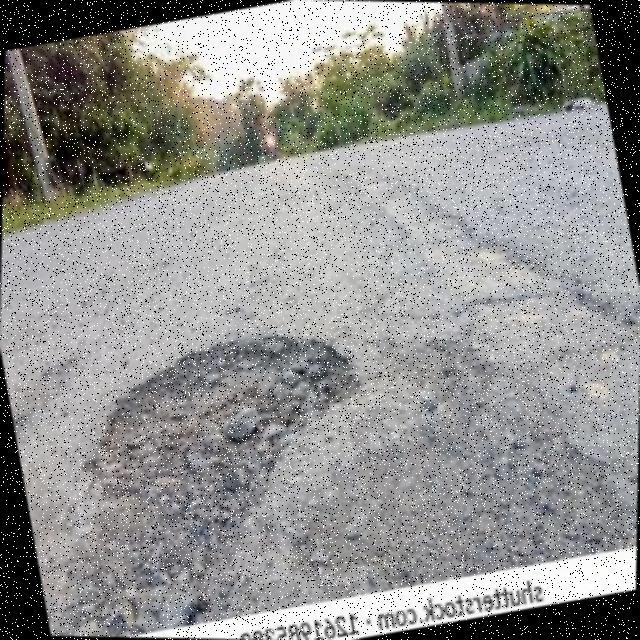Pothole: (88, 334, 361, 629)
